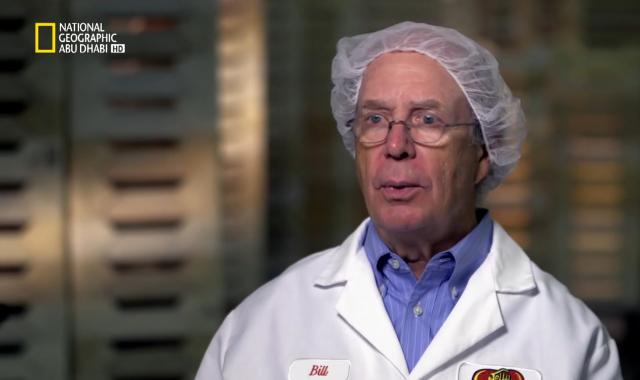hairnet: (335, 31, 521, 147)
